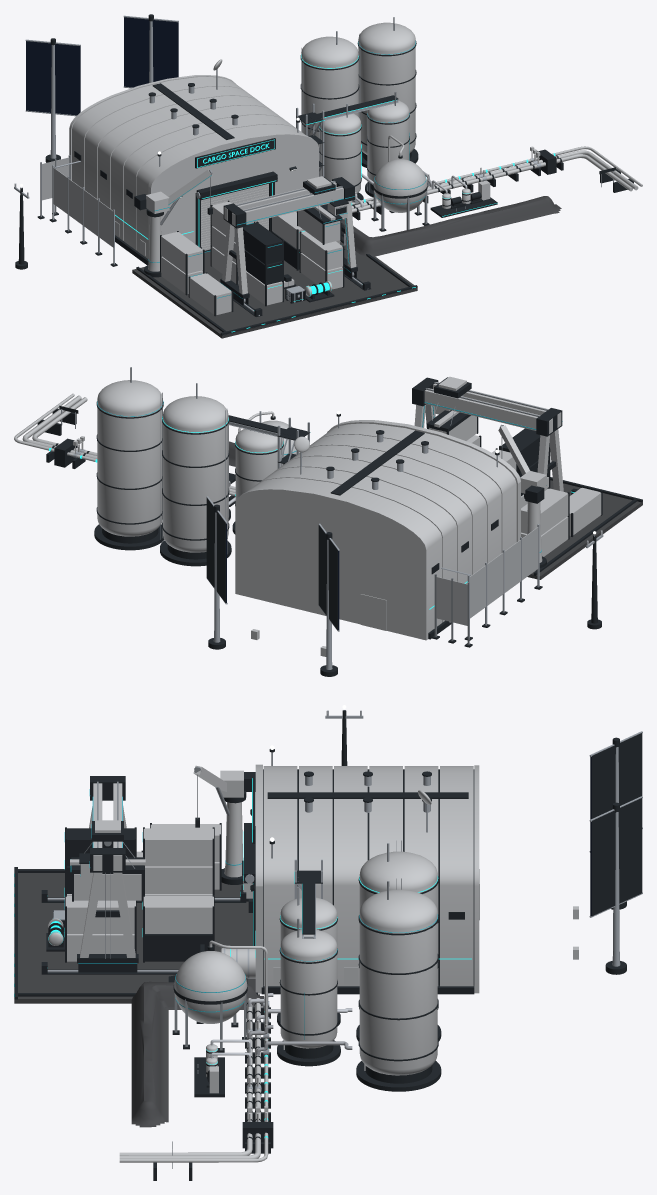
File: dock_tankfarm_game.glb
3 renders of one model, top to bottom at view 1: azimuth 30°, elevation 25°; view 2: azimuth 150°, elevation 25°; view 3: azimuth 270°, elevation 25°, orthographic. The views are drawn at different scales.
Visible parts, largest first — view 1: Base_Paint, Tier_20, Crane_Gantry, Base_Metal, Tier_12, Tier_03, Tier_05, Tier_08, Base_GlowCyan, Dock_Door; view 2: Base_Paint, Tier_20, Crane_Gantry, Base_Metal, Tier_08, Tier_03; view 3: Base_Paint, Tier_20, Crane_Gantry, Tier_05, Tier_03, Tier_12, Base_Metal, Tier_08, Base_GlowCyan.
Boxes of the visible parts, x1,y1,x2,y2 form: Base_Paint: (15,14,642,338); Tier_20: (37,17,431,316); Crane_Gantry: (220,176,357,305); Base_Metal: (14,15,613,315); Tier_12: (371,135,429,231); Tier_03: (210,200,344,271); Tier_05: (365,92,409,197); Tier_08: (134,169,212,277); Base_GlowCyan: (115,54,555,332); Dock_Door: (201,183,268,252); Base_Paint: (14,393,642,676); Tier_20: (94,367,602,647); Crane_Gantry: (412,376,563,491); Base_Metal: (61,383,603,669); Tier_08: (498,424,546,570); Tier_03: (466,428,550,474); Base_Paint: (14,710,642,1180); Tier_20: (136,823,441,1091); Crane_Gantry: (70,776,145,972); Tier_05: (248,918,340,1066); Tier_03: (64,827,214,934); Tier_12: (172,940,267,1052); Base_Metal: (47,710,642,1168); Tier_08: (193,765,255,884); Base_GlowCyan: (14,778,471,1138).
Bounding box in the file's own units: 72.75 × 18.43 × 53.19.
